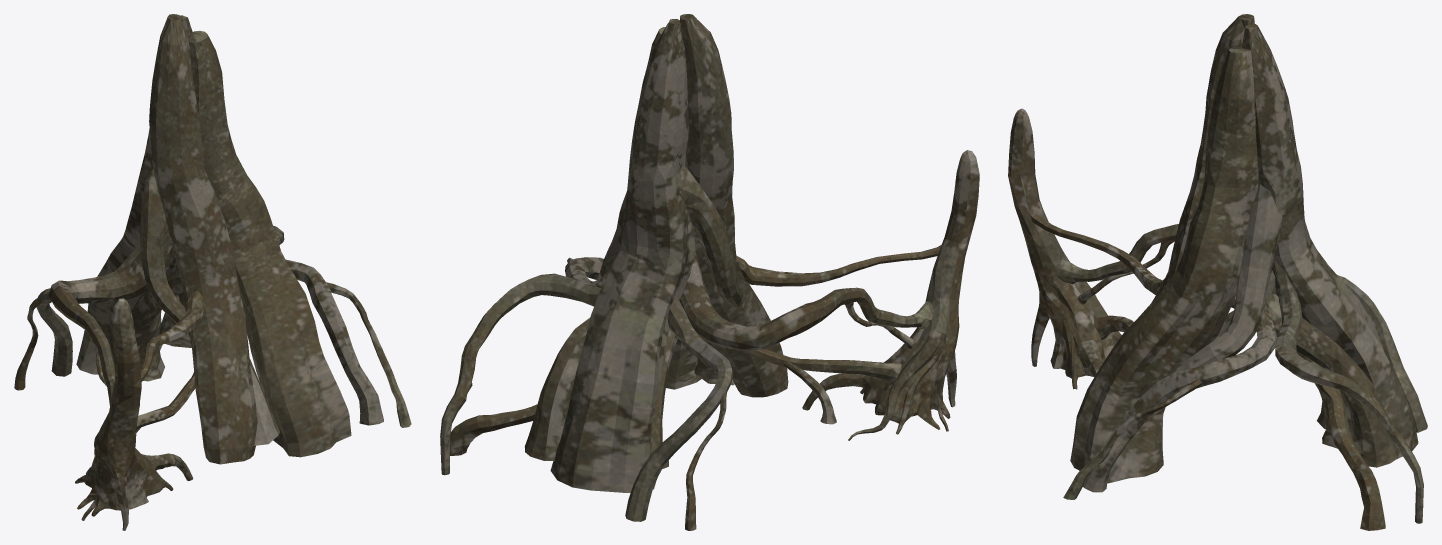
The model's file is House37.fbx.
3 renders of one model, left to right at view 1: azimuth 30°, elevation 25°; view 2: azimuth 150°, elevation 25°; view 3: azimuth 270°, elevation 25°, orthographic. The views are drawn at different scales.
Visible parts, largest first — view 1: AT_BGAgo_OC_Gate_A01_10B.mo; view 2: AT_BGAgo_OC_Gate_A01_10B.mo; view 3: AT_BGAgo_OC_Gate_A01_10B.mo.
Boxes of the visible parts, box(x1,y1,x2,y2) form: AT_BGAgo_OC_Gate_A01_10B.mo: box(14, 14, 411, 530); AT_BGAgo_OC_Gate_A01_10B.mo: box(440, 14, 979, 530); AT_BGAgo_OC_Gate_A01_10B.mo: box(1008, 14, 1427, 530).
Bounding box in the file's own units: 3720 × 4264 × 3767.
